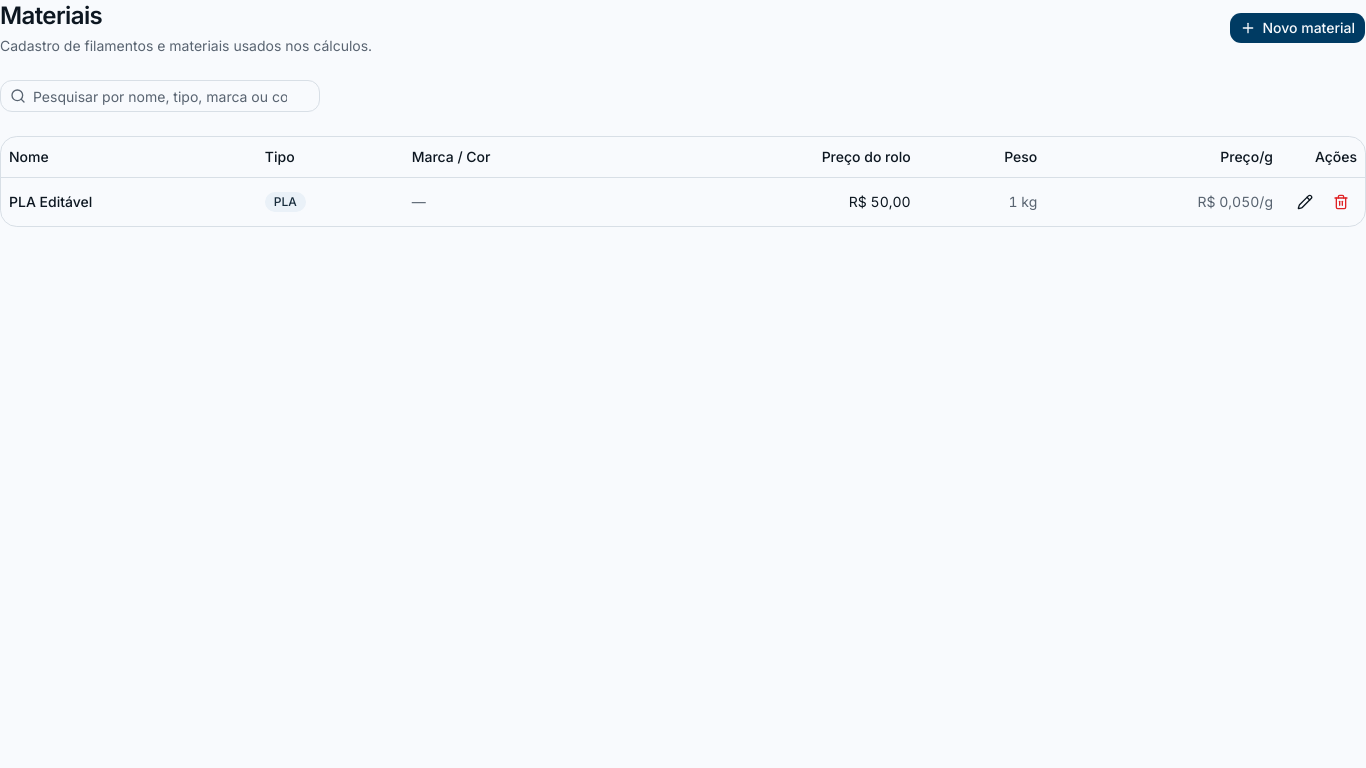
Test: MaterialsPage › edita um material existente e reflete a mudança na tabela e no storage
Expected: the text "PLA Editável" is shown, [1,177,257,226]
Click the button named "Editar PLA Editável".
click(1305, 202)  # box [1289,186,1321,218]
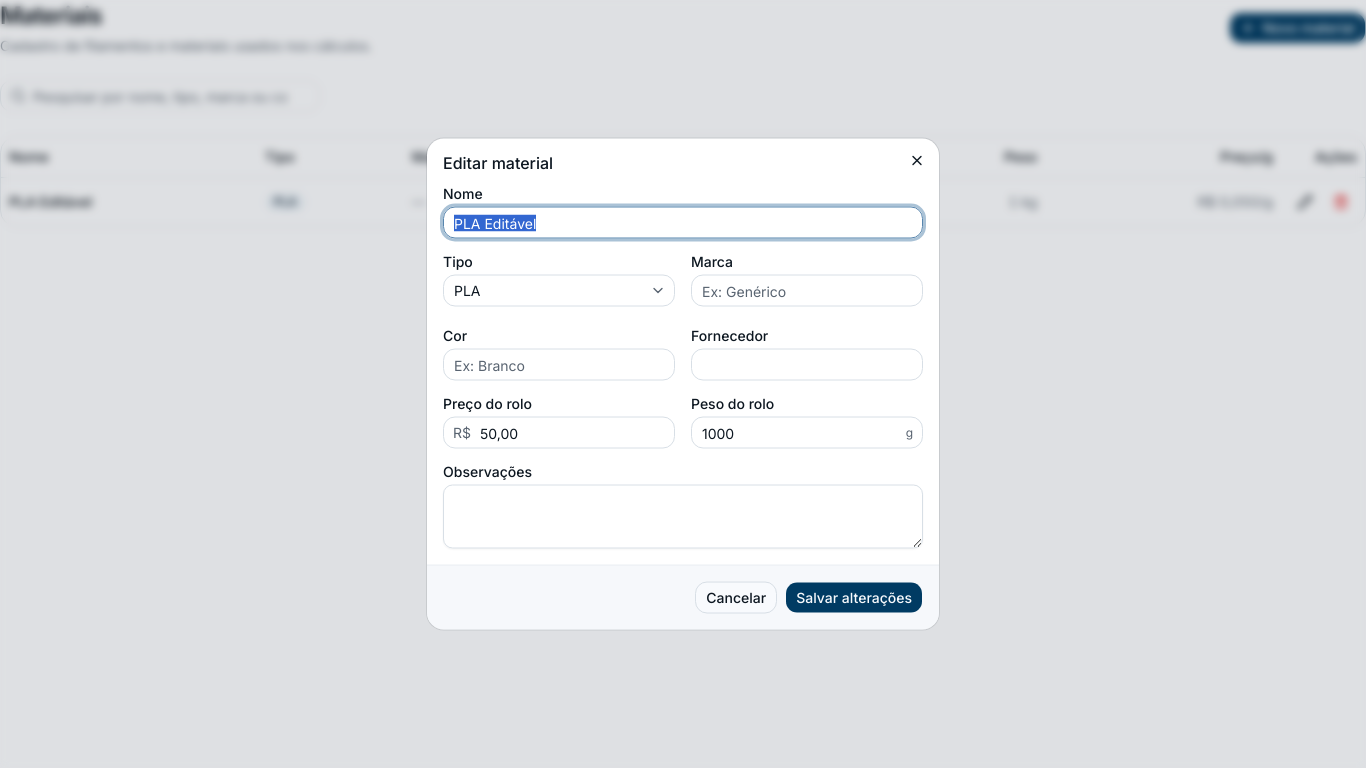
Replace the text in the field labelled "Preço do rolo" with "60,00" at coordinates (559, 432), box [443,416,675,448]
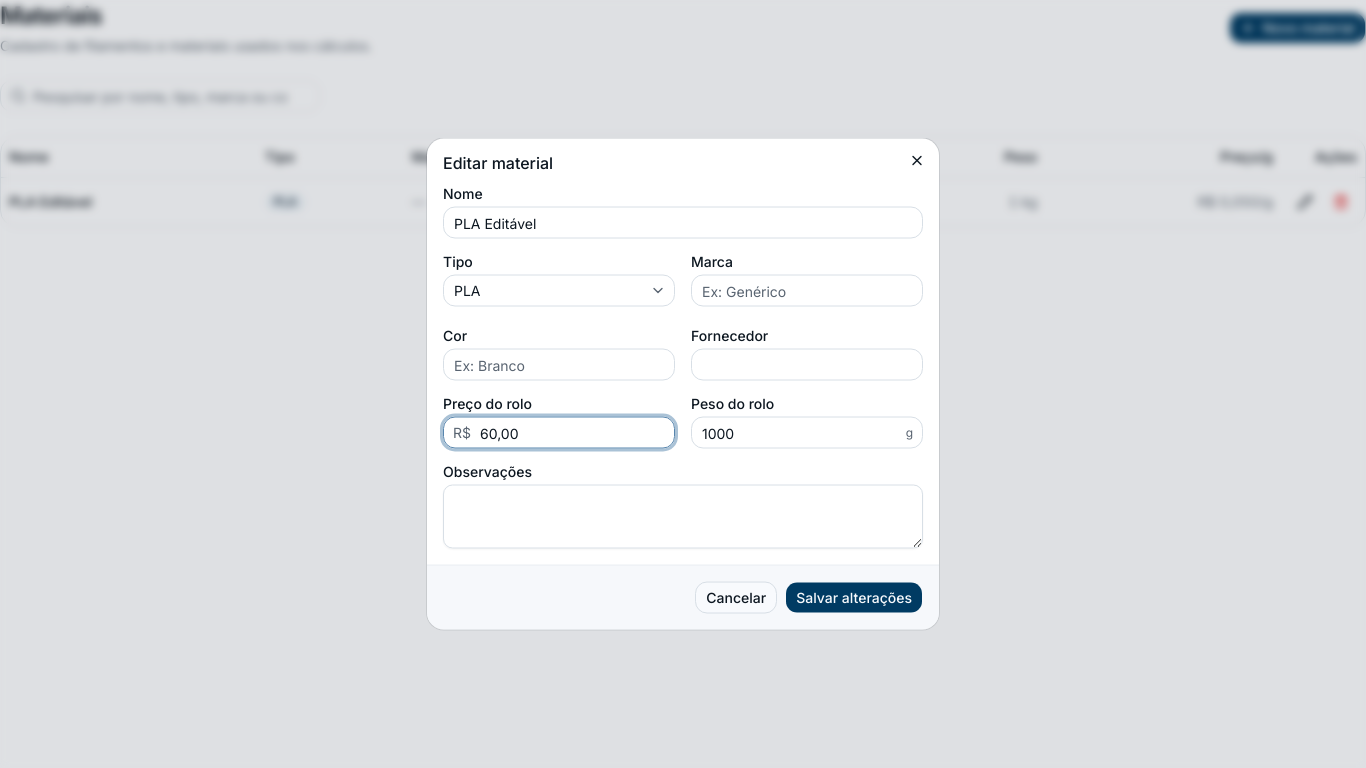
Click the button "Salvar alterações".
click(854, 598)  # box [785,582,923,614]
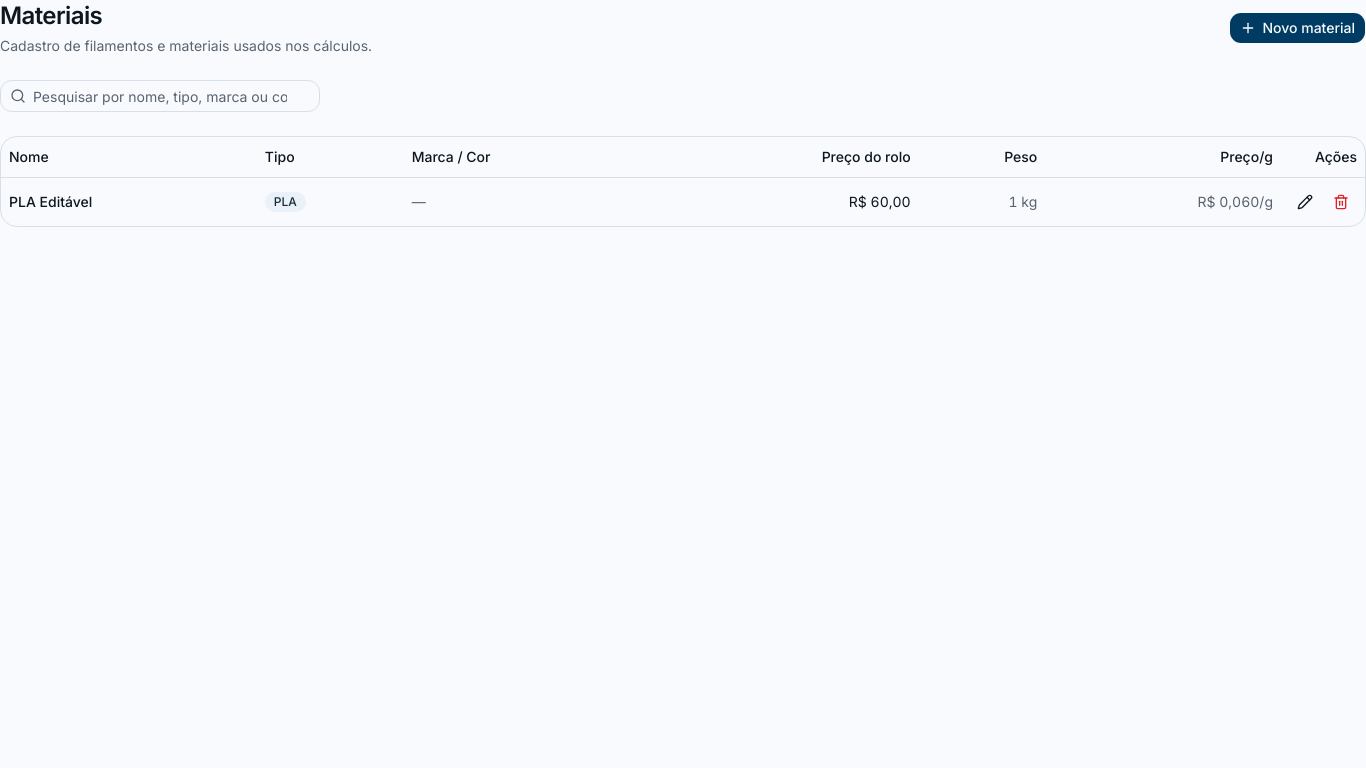
Now the text "R$ 60,00" is shown, box [648,177,919,226]
